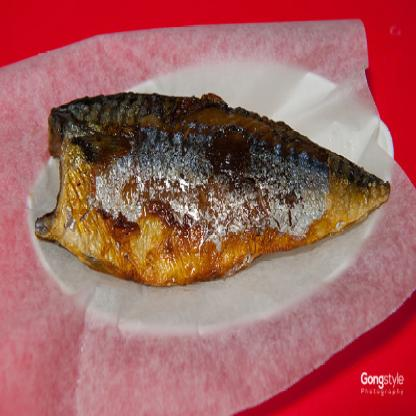Peixe: (35, 92, 398, 273)
